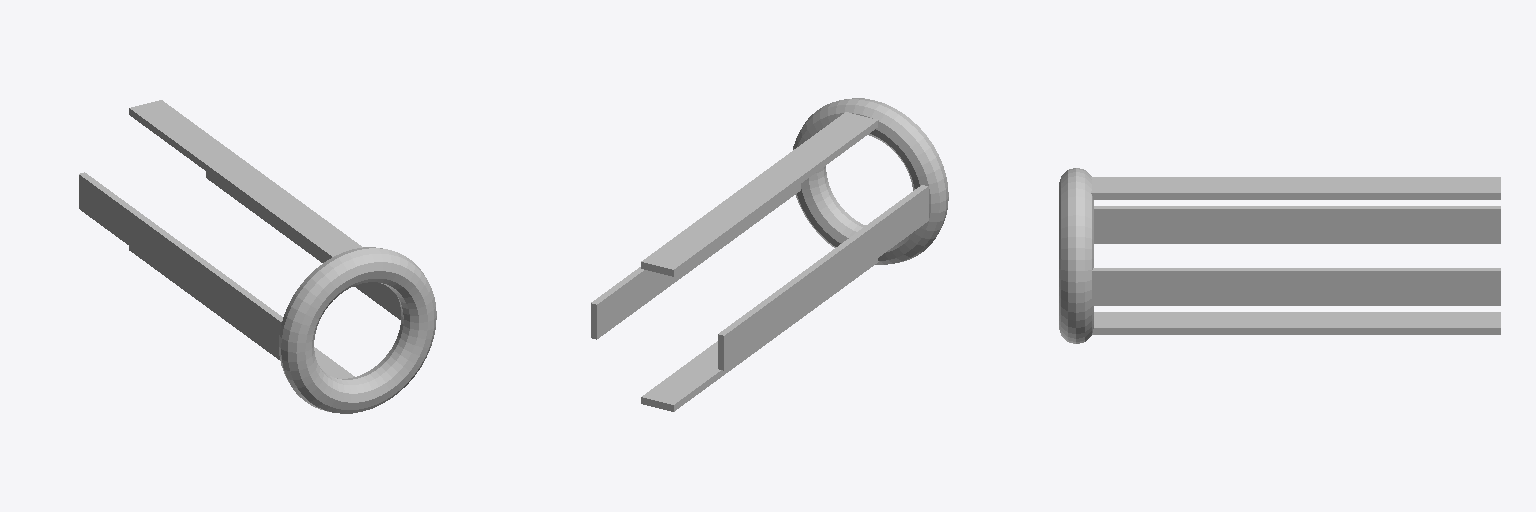
Rendered from MicroColloner.obj.
The picture shows the model from 3 angles: view 1: azimuth 30°, elevation 25°; view 2: azimuth 150°, elevation 25°; view 3: azimuth 270°, elevation 25°; orthographic projection.
Parts seen in each view (by area): view 1: Torus, Cube_Cube.001, Cube.002_Cube.004, Cube.003_Cube.005, Cube.001_Cube.002; view 2: Torus, Cube_Cube.001, Cube.002_Cube.004, Cube.003_Cube.005, Cube.001_Cube.002; view 3: Cube.003_Cube.005, Cube_Cube.001, Cube.002_Cube.004, Cube.001_Cube.002, Torus.
Boxes of the visible parts, x1=… form: Torus: x1=279, y1=247, x2=436, y2=413; Cube_Cube.001: x1=79, y1=172, x2=282, y2=354; Cube.002_Cube.004: x1=129, y1=100, x2=362, y2=259; Cube.003_Cube.005: x1=206, y1=172, x2=400, y2=319; Cube.001_Cube.002: x1=129, y1=246, x2=354, y2=378; Torus: x1=793, y1=98, x2=948, y2=264; Cube_Cube.001: x1=718, y1=185, x2=928, y2=370; Cube.002_Cube.004: x1=641, y1=112, x2=878, y2=276; Cube.003_Cube.005: x1=591, y1=184, x2=800, y2=339; Cube.001_Cube.002: x1=641, y1=259, x2=878, y2=411; Cube.003_Cube.005: x1=1092, y1=268, x2=1500, y2=305; Cube_Cube.001: x1=1094, y1=206, x2=1500, y2=243; Cube.002_Cube.004: x1=1091, y1=177, x2=1500, y2=199; Cube.001_Cube.002: x1=1092, y1=312, x2=1500, y2=334; Torus: x1=1059, y1=168, x2=1093, y2=343.
Bounding box in the file's own units: 1.25 × 1.25 × 3.12.